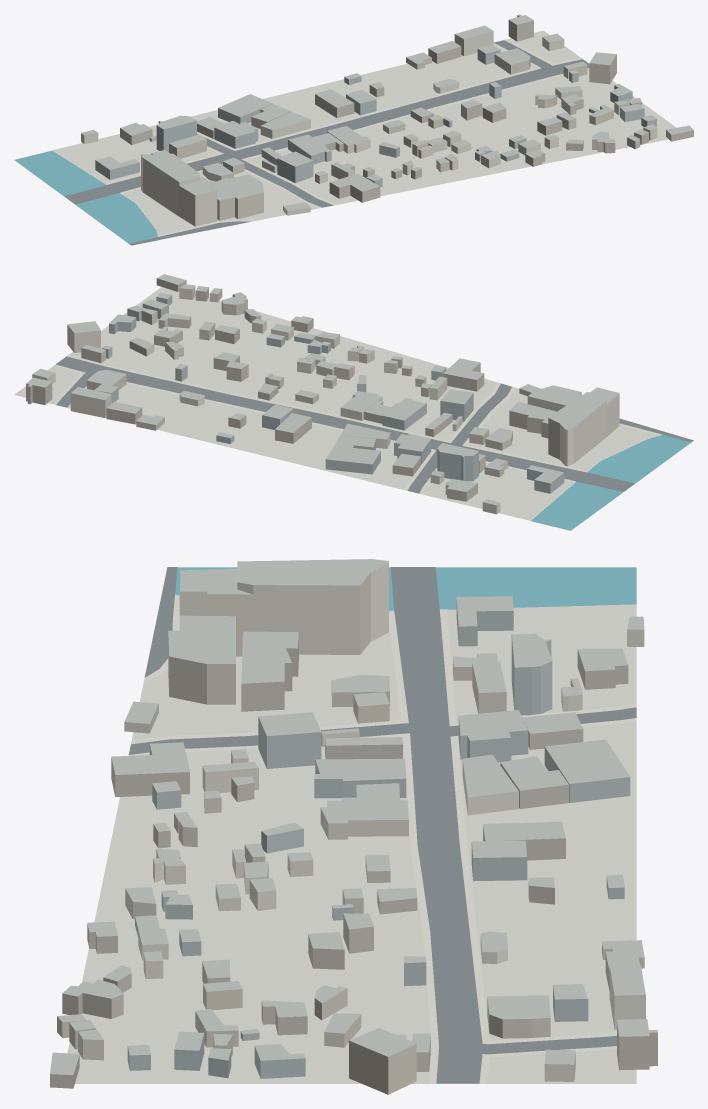
3 views of the same model, one above another, from view 1: azimuth 30°, elevation 25°; view 2: azimuth 150°, elevation 25°; view 3: azimuth 270°, elevation 25° (orthographic). The views are drawn at different scales.
Parts seen in each view (by area): view 1: city; view 2: city; view 3: city.
Boxes of the visible parts, x1,y1,x2,y2 form: city: (14,14,693,245); city: (14,274,693,530); city: (50,559,657,1094).
Bounding box in the file's own units: 511 × 31.48 × 249.
